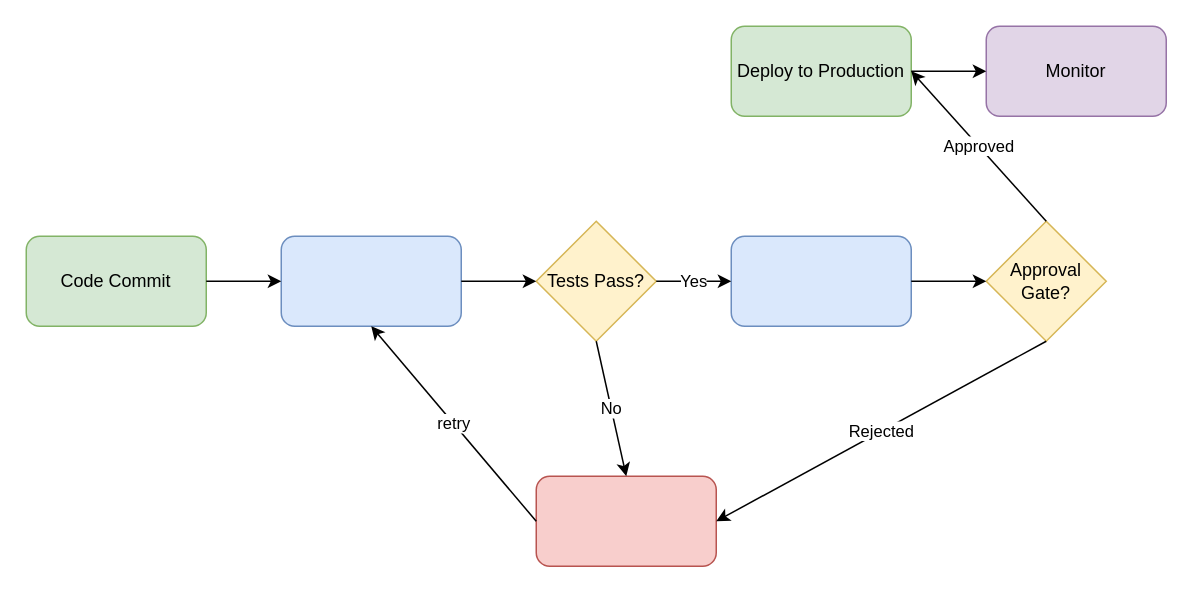
Image size: 1193x593. Some labels were removed from this diagram. Here are the shapes that lost their labels. From the top down, the centre of each, then its label:
At pixel 370 280: "Build".
At pixel 820 280: "Deploy to Staging".
At pixel 625 520: "Fix & Retry".
